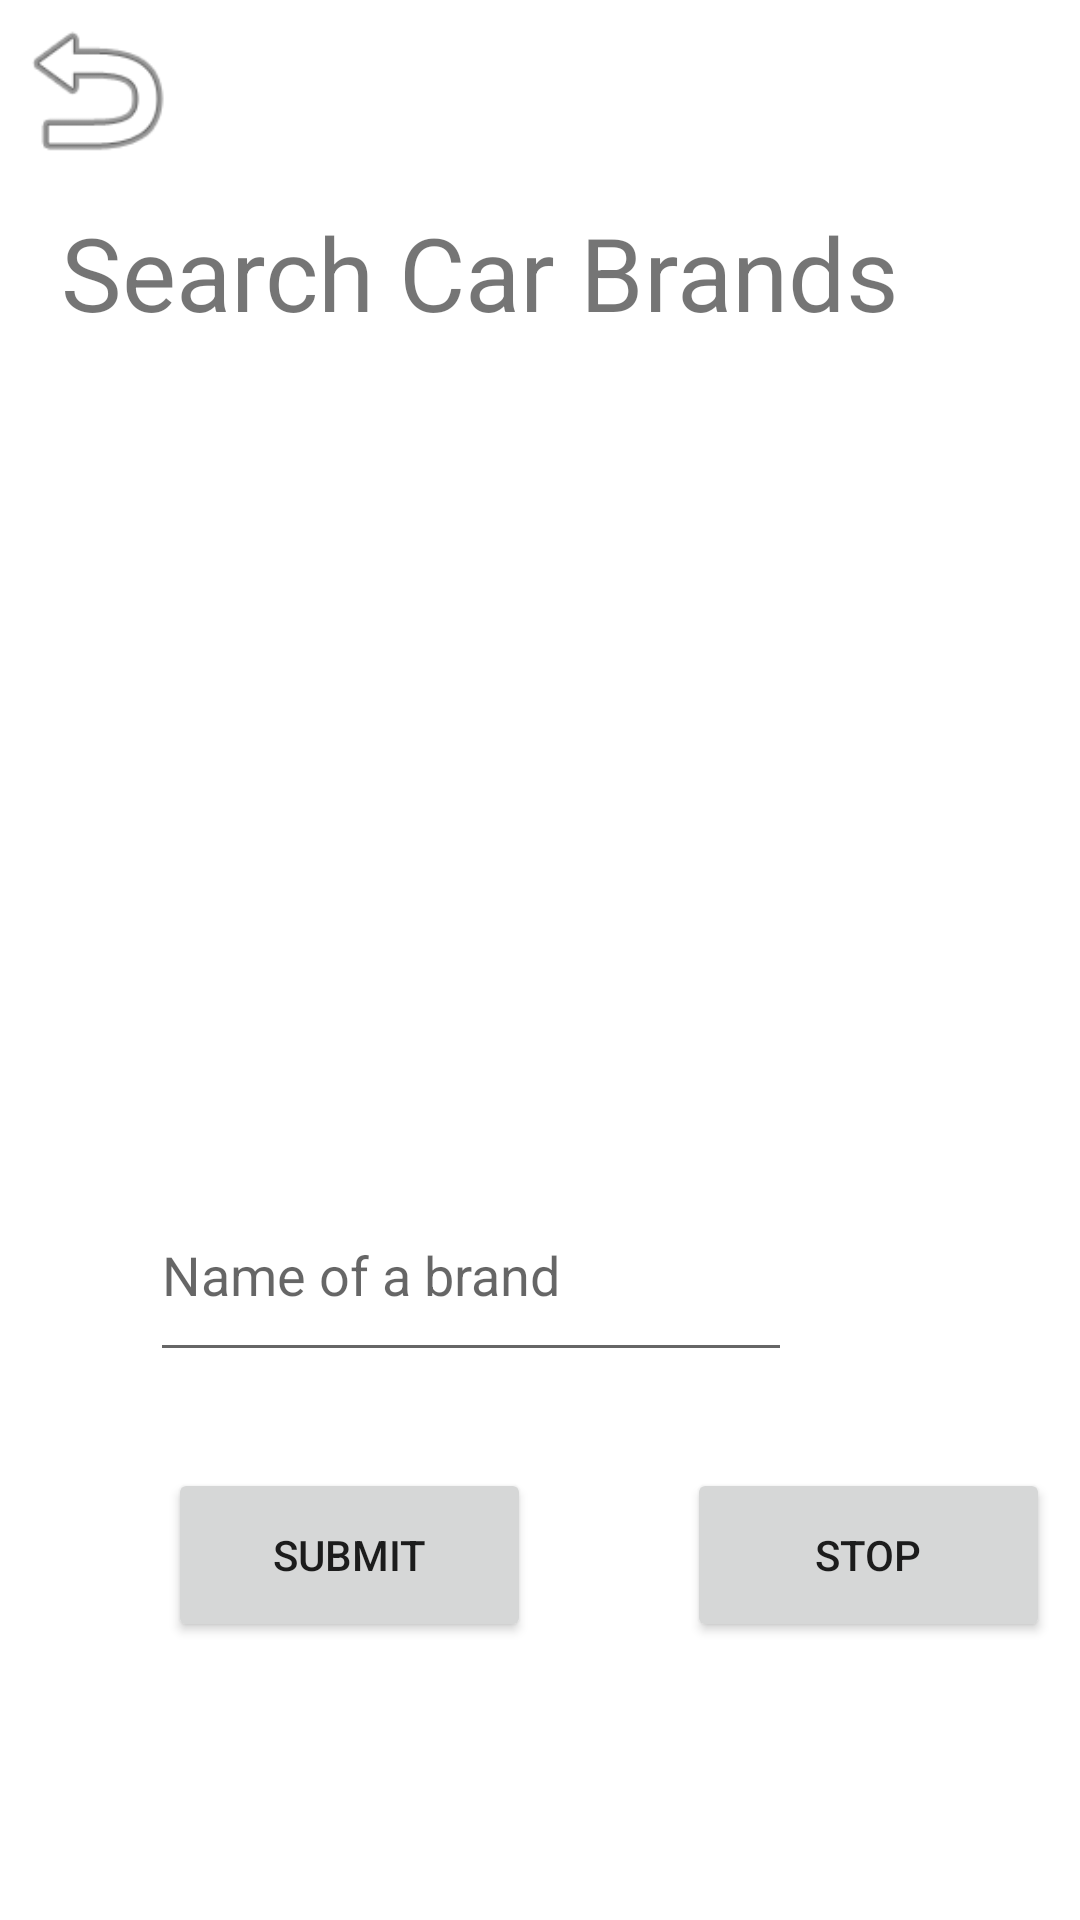

Screen size 1080×1920. Icon name, then its center in pixels as (x=x, y=y):
revert: (x=98, y=91)
